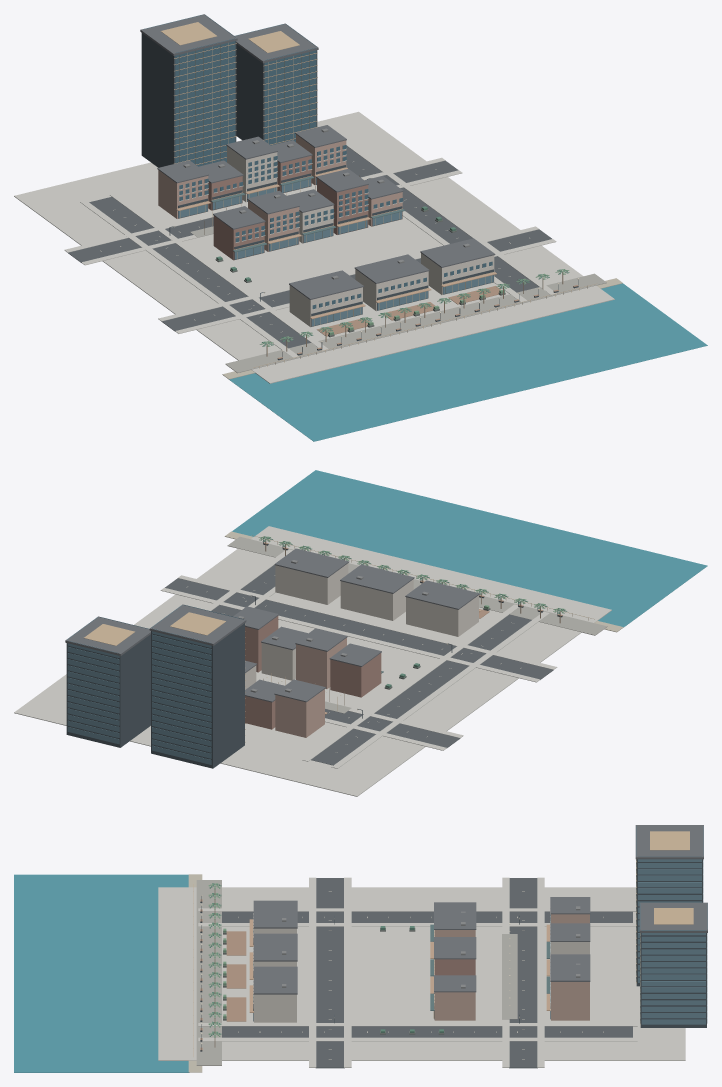
File: downtown.glb
The picture shows the model from 3 angles, top to bottom: view 1: azimuth 30°, elevation 25°; view 2: azimuth 150°, elevation 25°; view 3: azimuth 270°, elevation 25°; orthographic projection. The views are drawn at different scales.
Visible parts, largest first — view 1: sidewalk, water, glassdark, roof, black, road, limestone, metal, paver, brick2, brick, glass (+4 smaller); view 2: sidewalk, water, glass, black, road, roof, limestone, brick, brick2, paver, metal, leaf2; view 3: sidewalk, water, road, roof, glass, paver, black, brick2, limestone, metal, wood, leaf2 (+3 smaller).
Boxes of the visible parts, bbox=[...] form: sidewalk: bbox=[14, 111, 614, 383]; water: bbox=[229, 283, 707, 441]; glassdark: bbox=[175, 38, 492, 309]; roof: bbox=[140, 14, 495, 299]; black: bbox=[141, 33, 578, 360]; road: bbox=[68, 146, 551, 348]; limestone: bbox=[179, 146, 494, 327]; metal: bbox=[161, 22, 596, 368]; paver: bbox=[190, 226, 606, 373]; brick2: bbox=[158, 134, 402, 251]; brick: bbox=[208, 156, 368, 260]; glass: bbox=[143, 14, 493, 326]; sidewalk: bbox=[14, 526, 611, 796]; water: bbox=[232, 470, 707, 627]; glass: bbox=[67, 605, 211, 764]; black: bbox=[66, 538, 562, 768]; road: bbox=[165, 565, 553, 765]; roof: bbox=[65, 548, 479, 702]; limestone: bbox=[245, 563, 478, 689]; brick: bbox=[245, 616, 381, 729]; brick2: bbox=[275, 638, 346, 737]; paver: bbox=[227, 536, 607, 713]; metal: bbox=[84, 535, 594, 742]; leaf2: bbox=[259, 536, 565, 613]; sidewalk: bbox=[158, 877, 685, 1067]; water: bbox=[14, 874, 189, 1072]; road: bbox=[222, 878, 632, 1068]; roof: bbox=[253, 825, 707, 994]; glass: bbox=[253, 826, 707, 1024]; paver: bbox=[196, 880, 517, 1065]; black: bbox=[200, 859, 706, 1051]; brick2: bbox=[434, 914, 589, 1020]; limestone: bbox=[253, 906, 589, 1022]; metal: bbox=[193, 831, 693, 1056]; wood: bbox=[200, 899, 246, 1050]; leaf2: bbox=[208, 883, 226, 1037].
Size of the model in its own units: 240 by 74.38 by 356.
